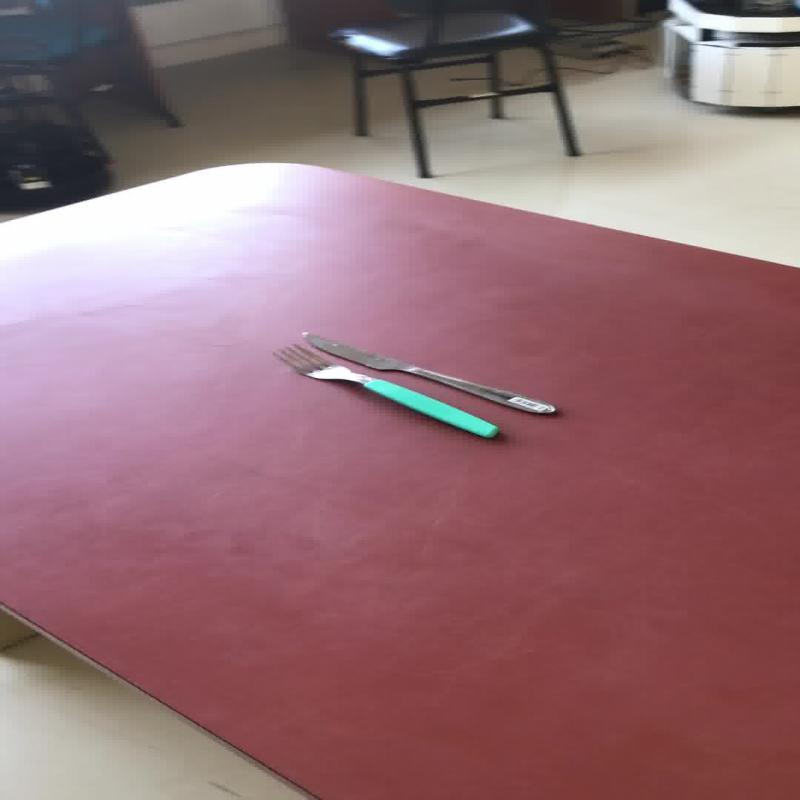fork: (270, 342, 500, 440)
knife: (297, 330, 556, 415)
